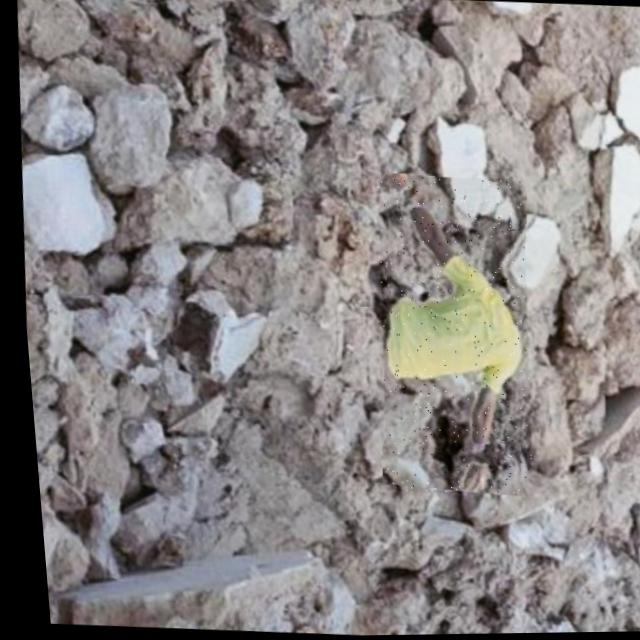Person in Rubble: (358, 174, 539, 498)
